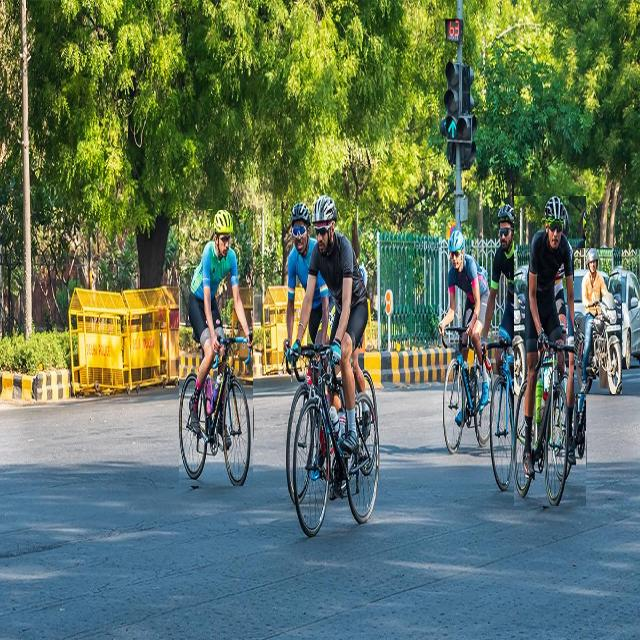bicycle: (288, 196, 379, 537), (514, 196, 586, 506), (180, 210, 253, 486), (482, 203, 534, 490), (439, 229, 491, 454)
motorcycle: (574, 249, 622, 394)
